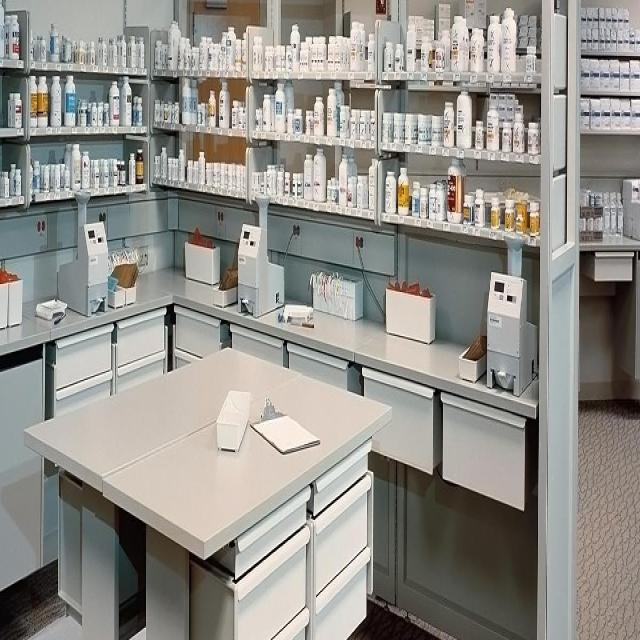Medical Waste: (4, 4, 547, 390)
